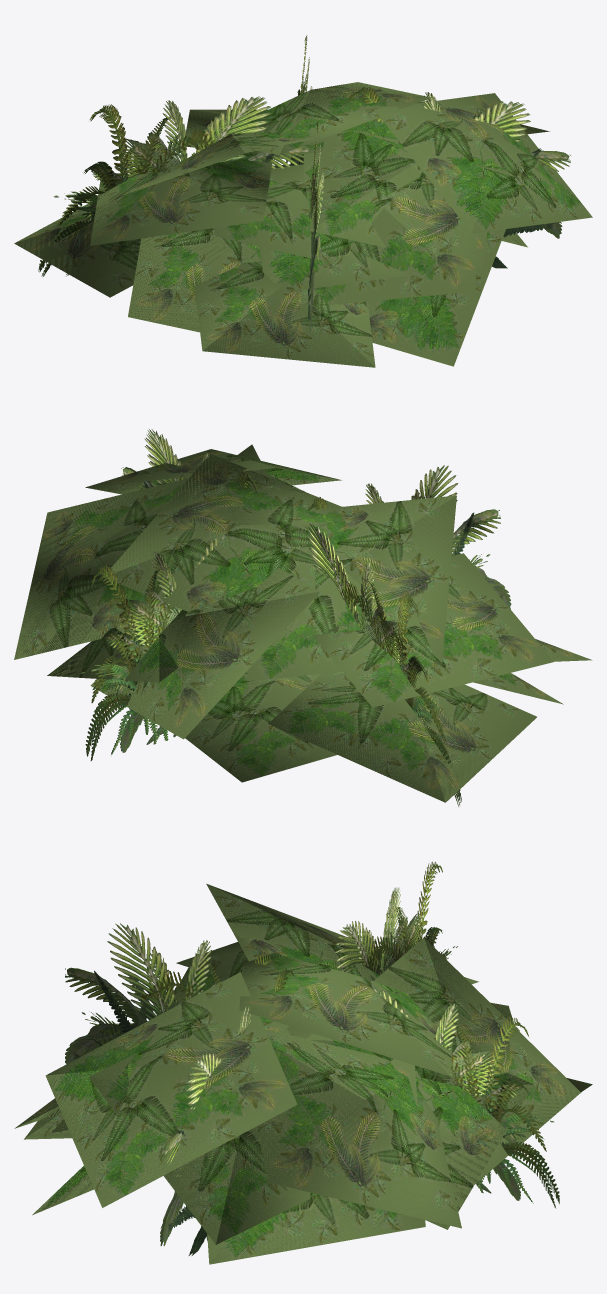
File: ptch_endr_frst_cluster_l0.fbx
The picture shows the model from 3 angles, top to bottom: view 1: azimuth 30°, elevation 25°; view 2: azimuth 150°, elevation 25°; view 3: azimuth 270°, elevation 25°; orthographic projection. The views are drawn at different scales.
Visible parts, largest first — view 1: mesh_node; view 2: mesh_node; view 3: mesh_node.
Part boxes in pixels (x1,y1,x2,y2): mesh_node: (14,35,592,367); mesh_node: (14,429,592,806); mesh_node: (14,861,592,1264).
Size of the model in its own units: 5.48 by 2.47 by 4.86.
